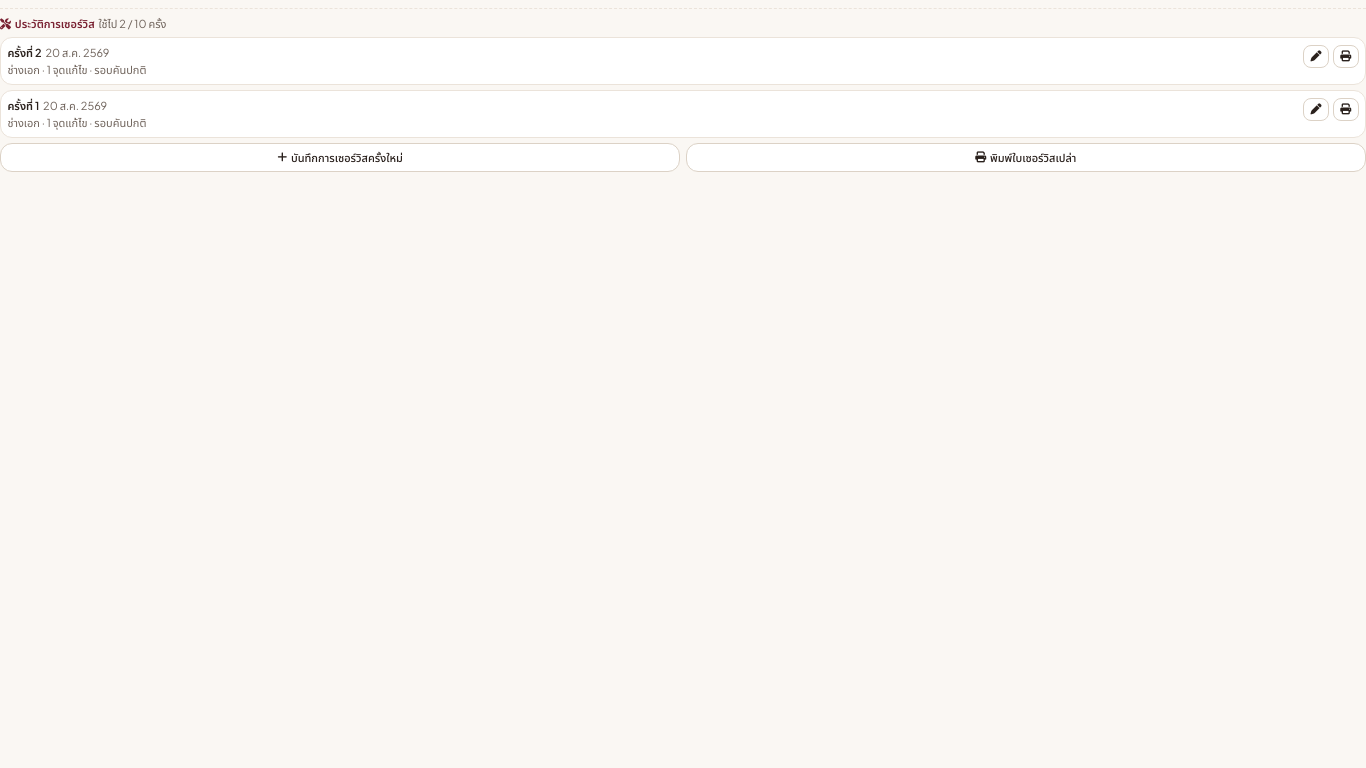
it: ServiceVisitsSection › numbers a new visit after the ones already recorded
The image size is (1366, 768).
Click the button "บันทึกการเซอร์วิสครั้งใหม่".
click(340, 158)  # box x1=0 y1=144 x2=680 y2=172
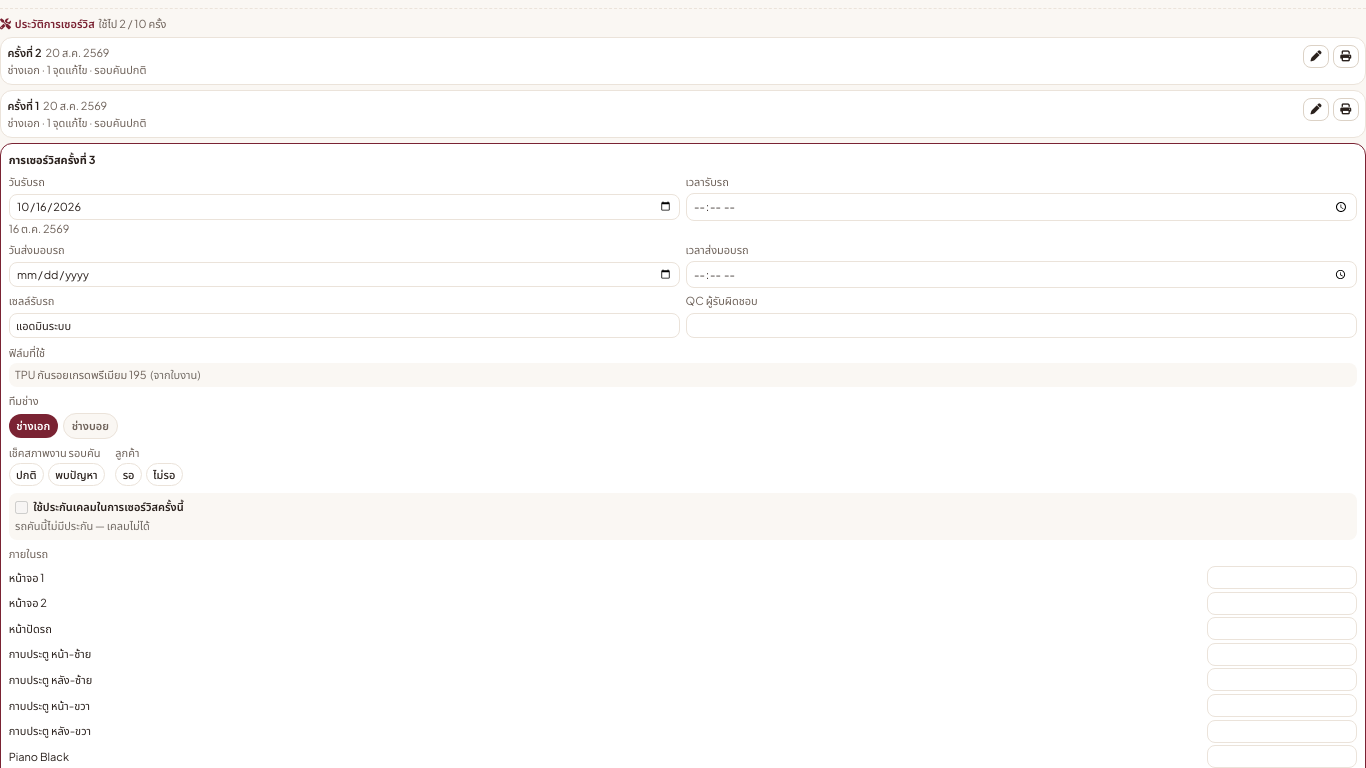
Check: the text "การเซอร์วิสครั้งที่ 3" is shown, box x1=9 y1=153 x2=95 y2=166
